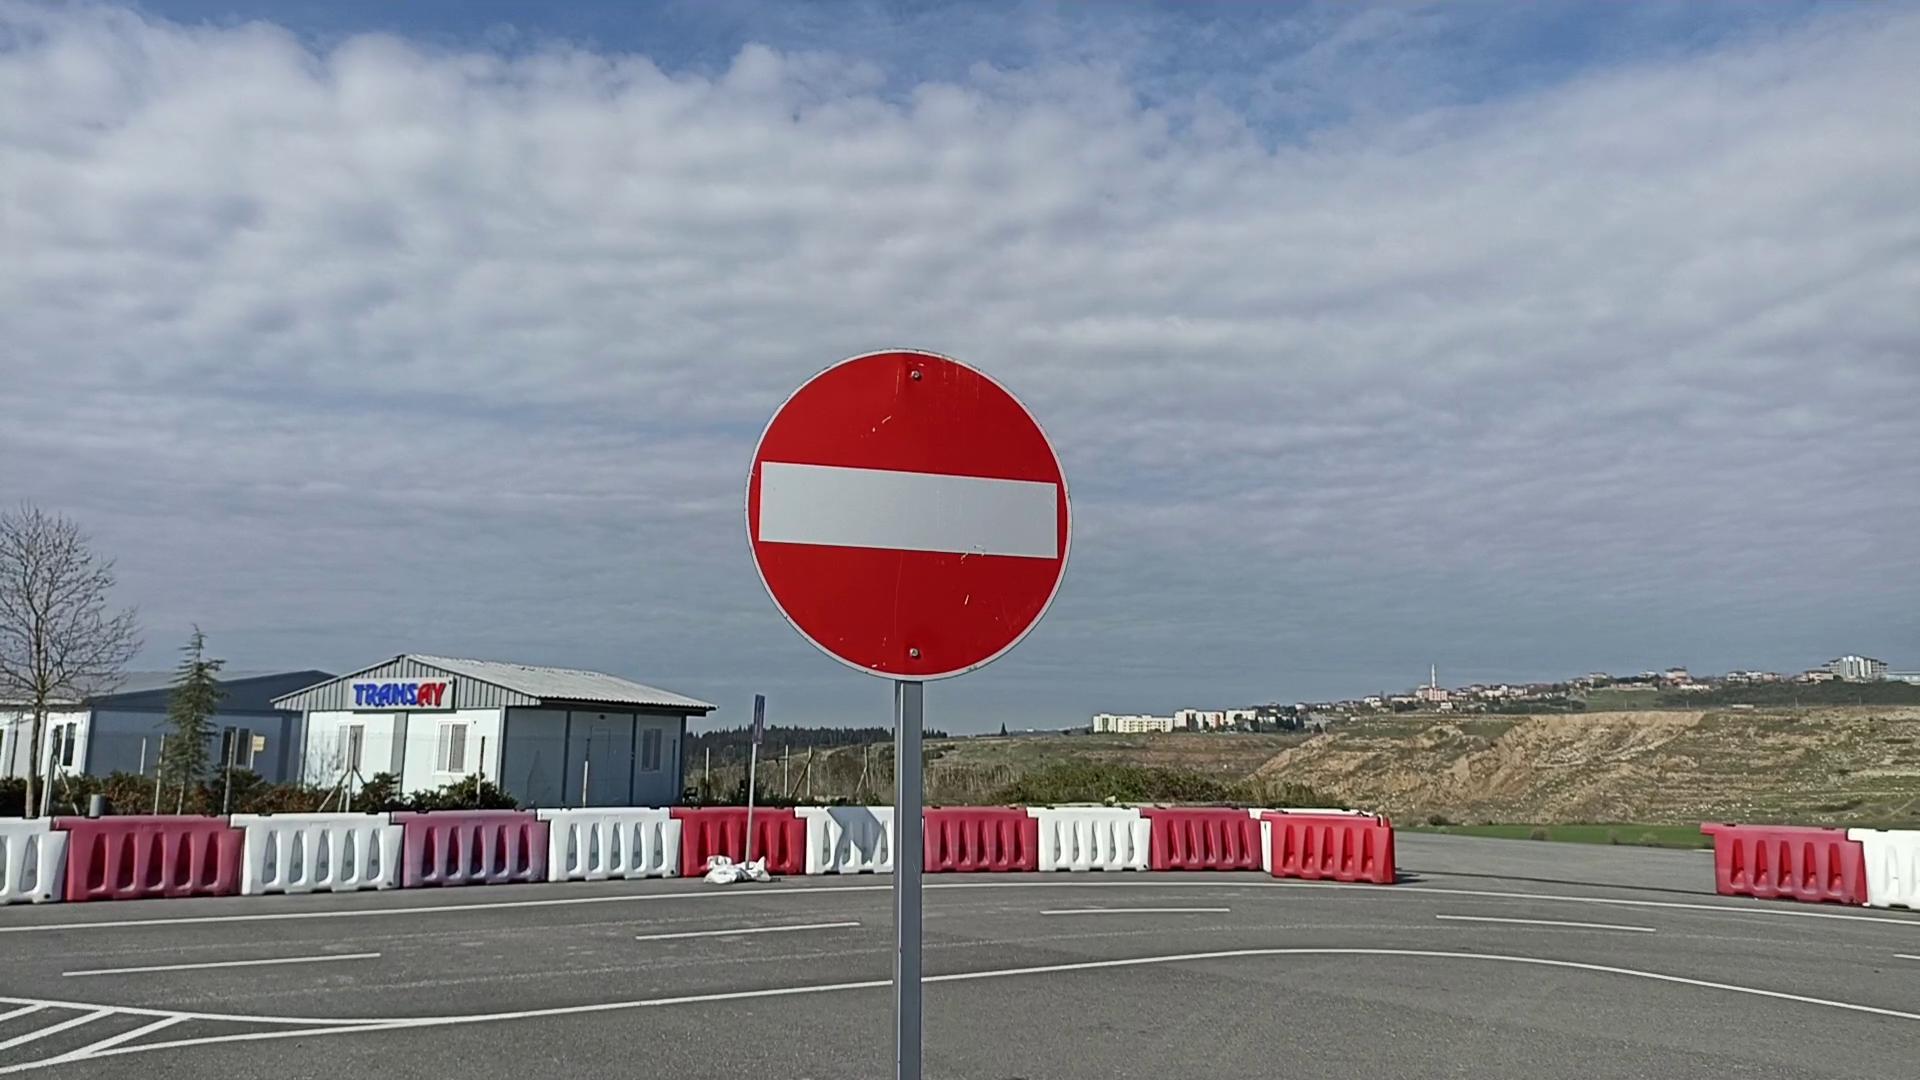noentryway: (738, 342, 1079, 688)
